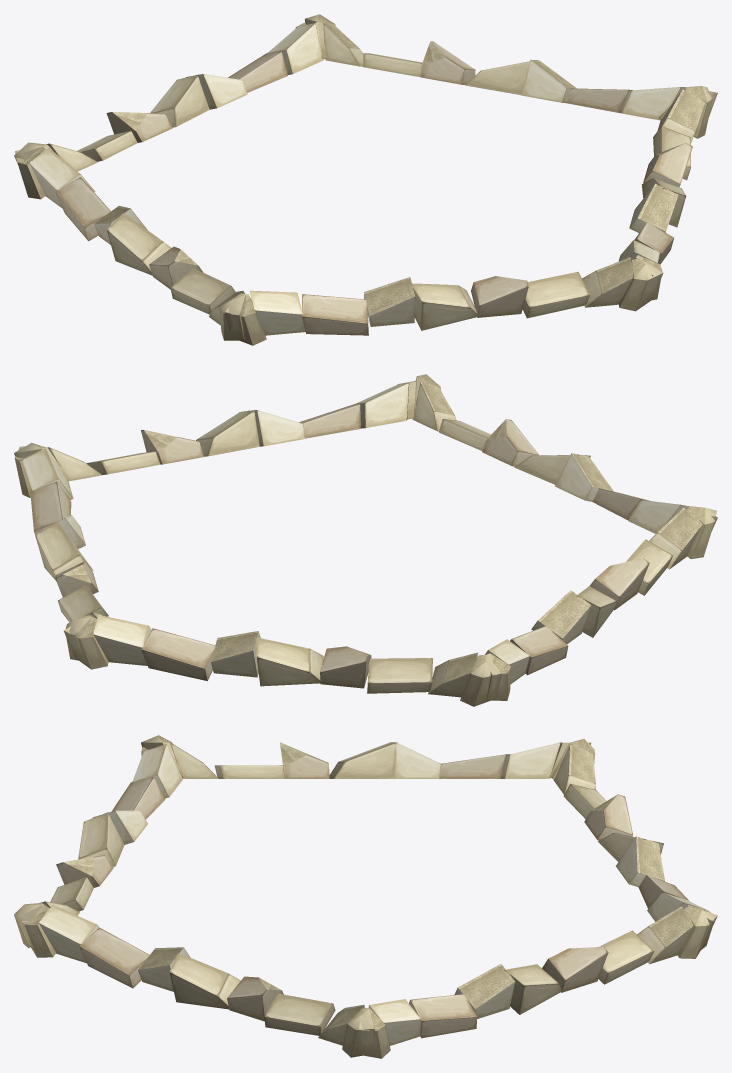
The model's file is arena-mur1.FBX.
3 views of the same model, one above another, from view 1: azimuth 30°, elevation 25°; view 2: azimuth 150°, elevation 25°; view 3: azimuth 270°, elevation 25° (orthographic).
Visible parts, largest first — view 1: Box117, Box104, Box119, Box118, Box120; view 2: Box118, Box104, Box120, Box117, Box119; view 3: Box119, Box120, Box104, Box117, Box118.
Part boxes in pixels (x1=…): Box117: x1=224, y1=257, x2=663, y2=345; Box104: x1=15, y1=146, x2=252, y2=340; Box119: x1=305, y1=14, x2=717, y2=120; Box118: x1=14, y1=21, x2=327, y2=171; Box120: x1=618, y1=86, x2=712, y2=300; Box118: x1=63, y1=614, x2=501, y2=706; Box104: x1=485, y1=506, x2=716, y2=700; Box120: x1=14, y1=381, x2=416, y2=481; Box117: x1=412, y1=374, x2=717, y2=533; Box119: x1=14, y1=446, x2=108, y2=660; Box119: x1=358, y1=906, x2=717, y2=1058; Box120: x1=15, y1=905, x2=374, y2=1057; Box104: x1=141, y1=735, x2=591, y2=778; Box117: x1=14, y1=742, x2=185, y2=948; Box118: x1=549, y1=739, x2=714, y2=950.
Bounding box in the file's own units: 3.04 × 0.2245 × 3.1.
Materials: 7 (7 with a texture image).
